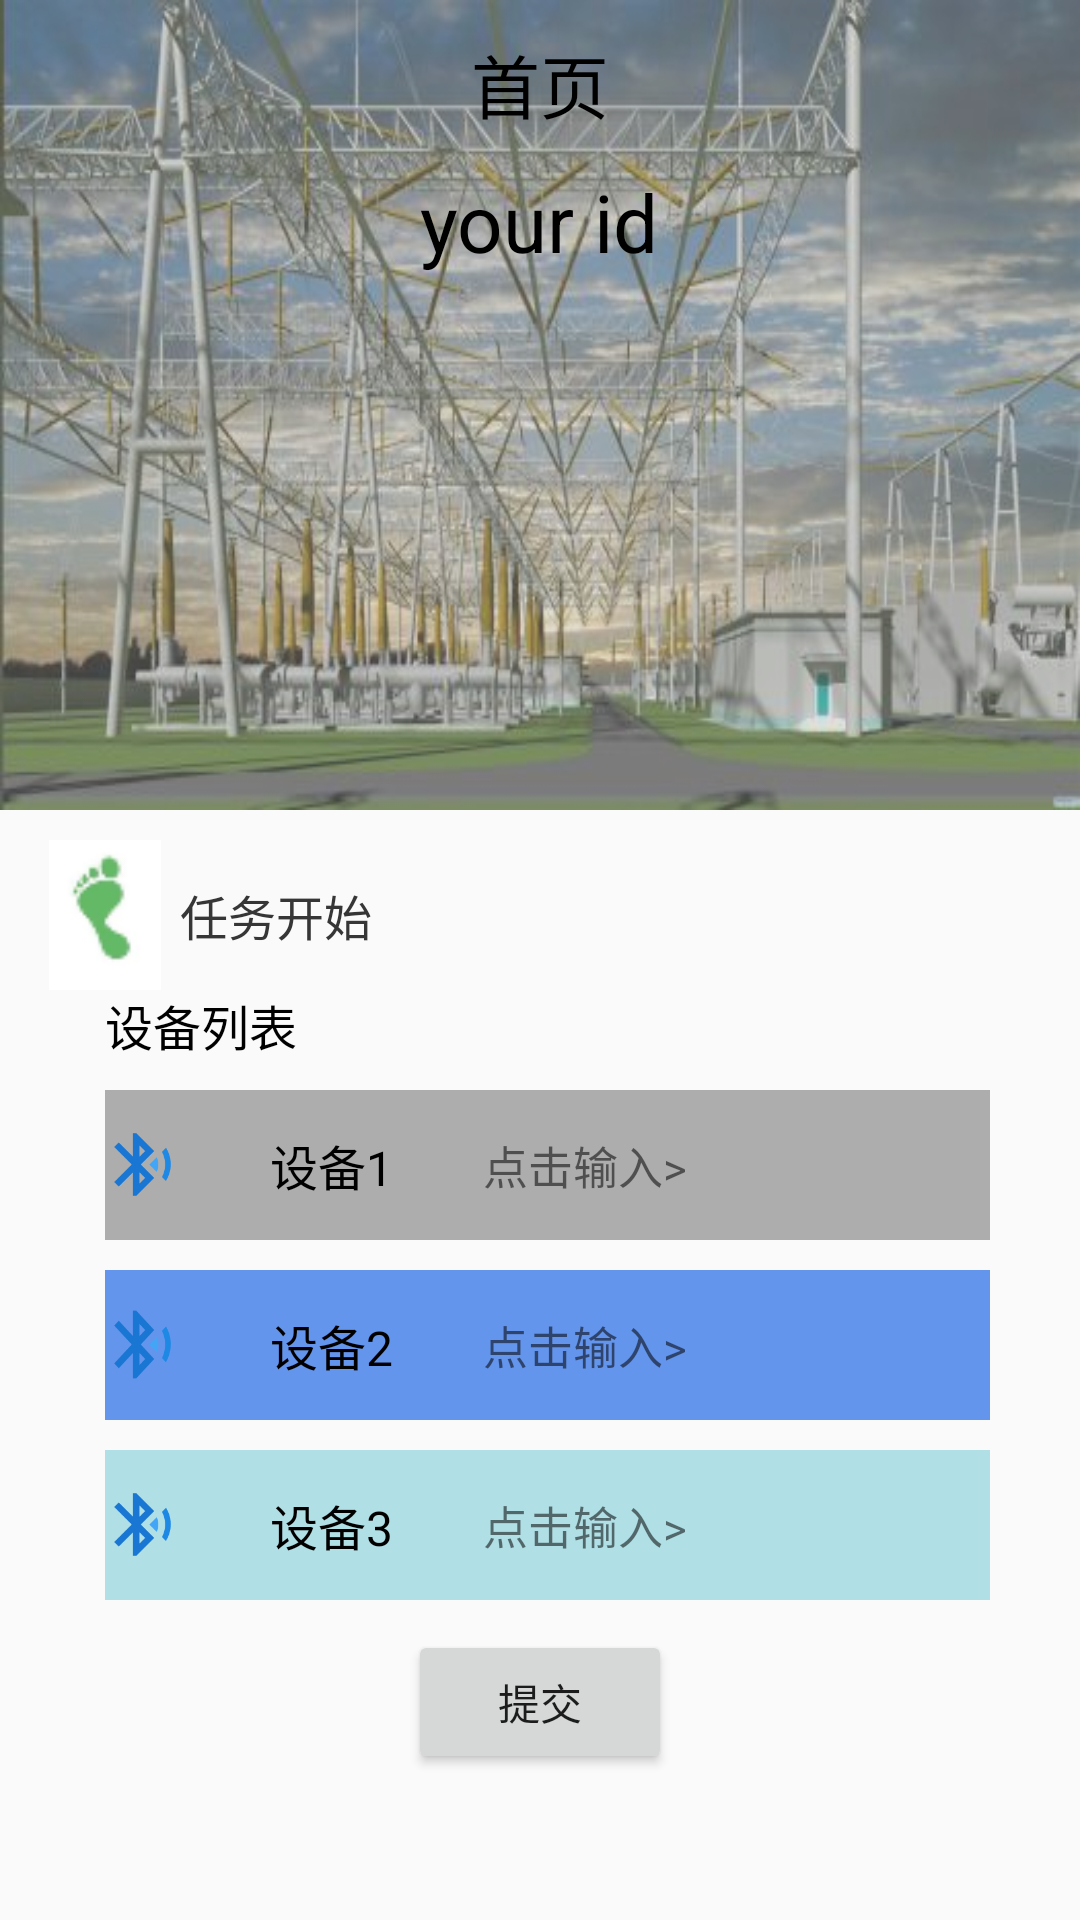

Named icons in this screenshot (1080w x 1920h) and their bounding boxes, (x1,y1,x2,y2):
sport: (72,855,131,960)
